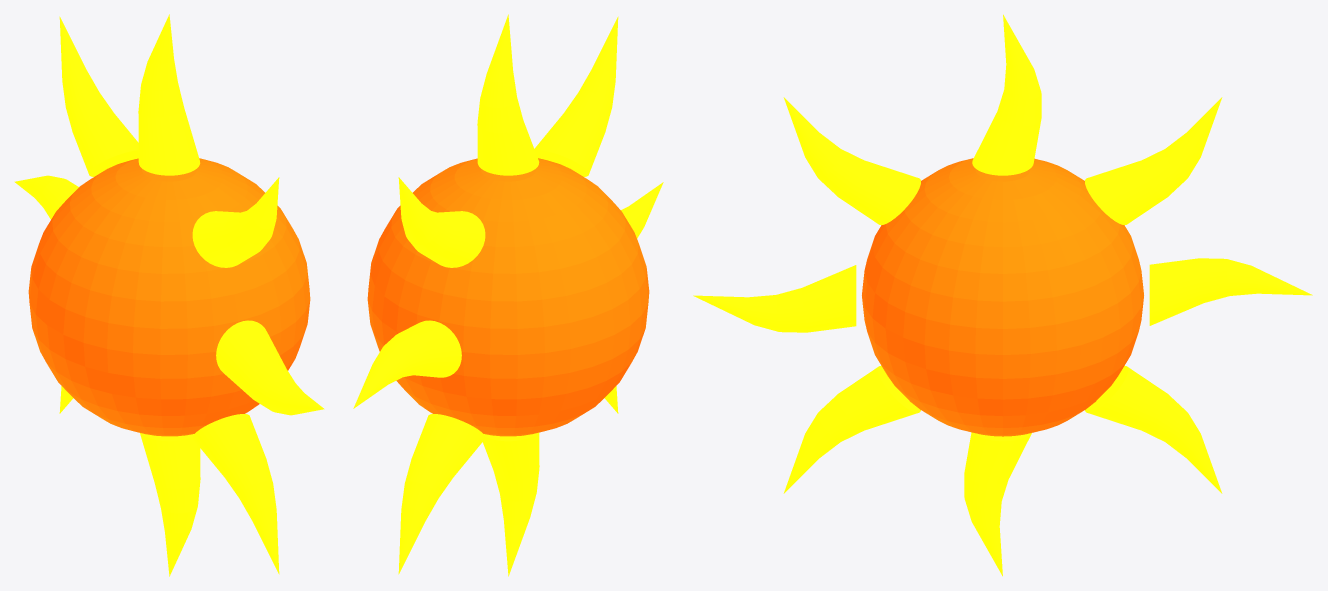
The model's file is sun.glb.
The picture shows the model from 3 angles, left to right: view 1: azimuth 30°, elevation 25°; view 2: azimuth 150°, elevation 25°; view 3: azimuth 270°, elevation 25°; orthographic projection.
Visible parts, largest first — view 1: Sphere, Cone.001; view 2: Sphere, Cone.001; view 3: Sphere, Cone.001.
Boxes of the visible parts, box(x1,y1,x2,y2) form: Sphere: box(28, 158, 310, 436); Cone.001: box(14, 14, 324, 576); Sphere: box(367, 158, 649, 436); Cone.001: box(353, 14, 663, 576); Sphere: box(862, 158, 1143, 436); Cone.001: box(693, 14, 1312, 576).
Bounding box in the file's own units: 2 × 4.4 × 4.4.
